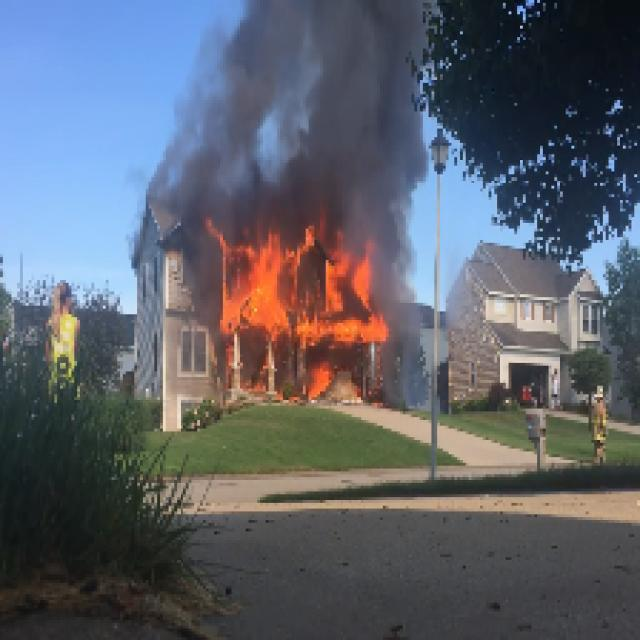Fire: (211, 234, 380, 334)
Smoke: (148, 3, 423, 203), (386, 208, 432, 400)
